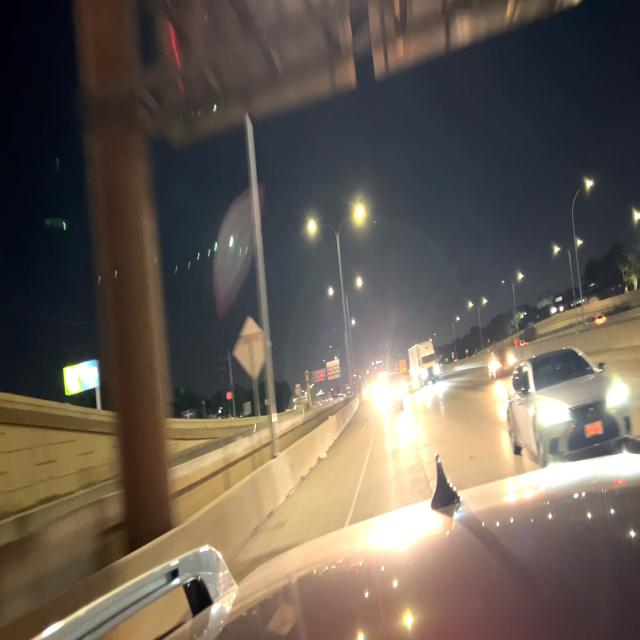back-of-sign: (232, 318, 270, 379), (312, 361, 342, 385)
